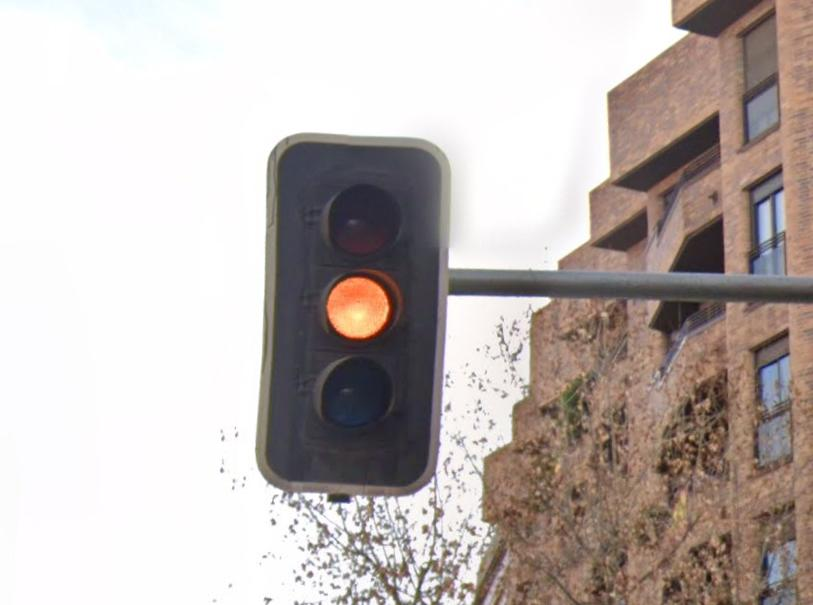yellow_light: (255, 132, 449, 497)
